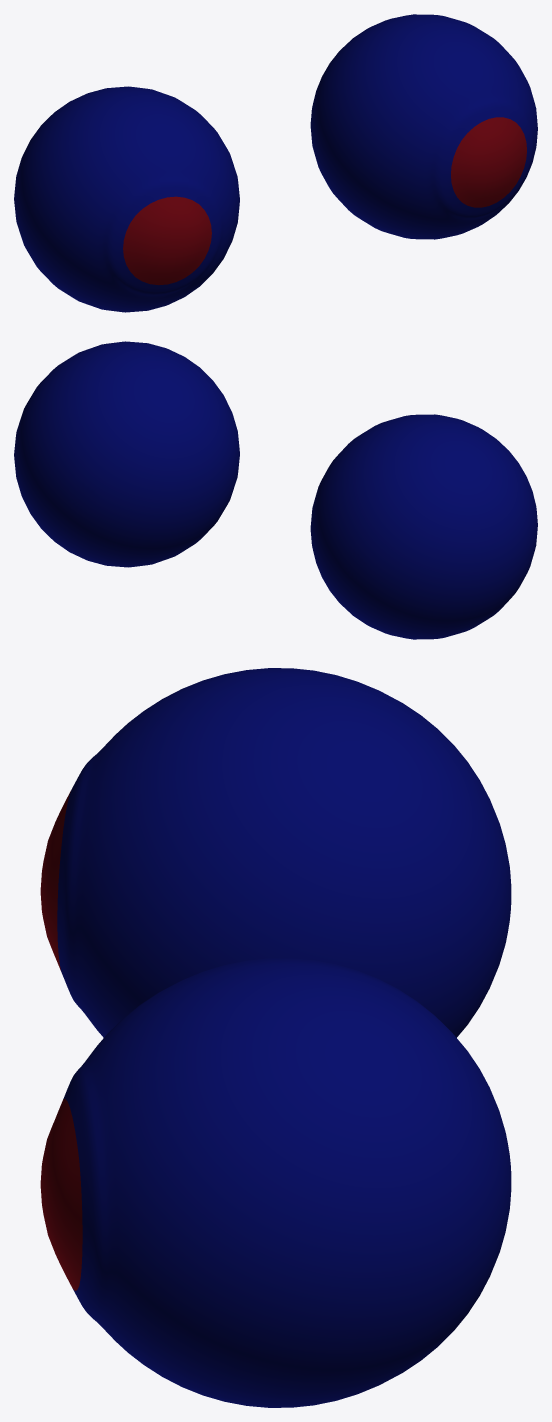
The model's file is twoeyes.fbx.
3 views of the same model, one above another, from view 1: azimuth 30°, elevation 25°; view 2: azimuth 150°, elevation 25°; view 3: azimuth 270°, elevation 25° (orthographic). The views are drawn at different scales.
Visible parts, largest first — view 1: squidGameDoll_02_mata; view 2: squidGameDoll_02_mata; view 3: squidGameDoll_02_mata.
Part boxes in pixels (<box>): squidGameDoll_02_mata: <box>14,14,537,312</box>; squidGameDoll_02_mata: <box>14,341,537,639</box>; squidGameDoll_02_mata: <box>40,668,511,1407</box>.
Size of the model in its own units: 149 by 59.2 by 61.89.
